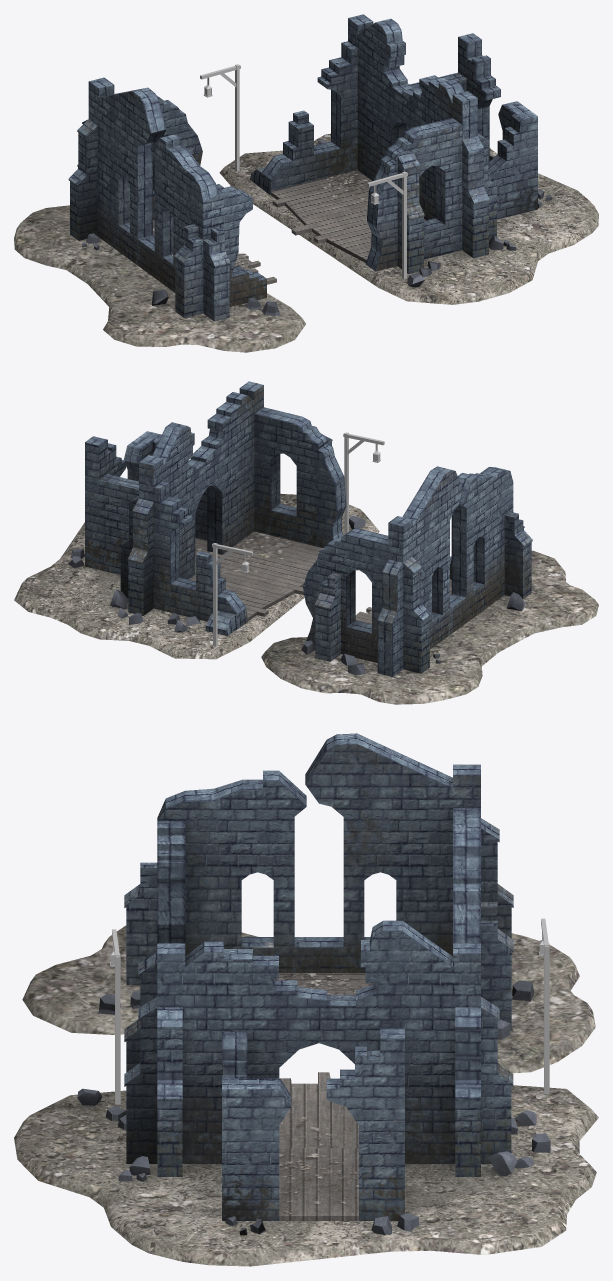
File: Medieval_Building_49.fbx
3 views of the same model, one above another, from view 1: azimuth 30°, elevation 25°; view 2: azimuth 150°, elevation 25°; view 3: azimuth 270°, elevation 25° (orthographic). The views are drawn at different scales.
Parts seen in each view (by area): view 1: Medieval_Building_49, Lantern1, Lantern1__1_; view 2: Medieval_Building_49, Lantern1__1_, Lantern1; view 3: Medieval_Building_49, Lantern1, Lantern1__1_.
Boxes of the visible parts, x1=… form: Medieval_Building_49: x1=14, y1=14, x2=598, y2=352; Lantern1: x1=367, y1=171, x2=407, y2=278; Lantern1__1_: x1=200, y1=64, x2=240, y2=171; Medieval_Building_49: x1=14, y1=381, x2=598, y2=704; Lantern1__1_: x1=212, y1=543, x2=253, y2=646; Lantern1: x1=343, y1=432, x2=384, y2=534; Medieval_Building_49: x1=14, y1=733, x2=598, y2=1266; Lantern1: x1=110, y1=929, x2=120, y2=1104; Lantern1__1_: x1=539, y1=918, x2=549, y2=1093.
Size of the model in its own units: 2554 by 881 by 1835.
